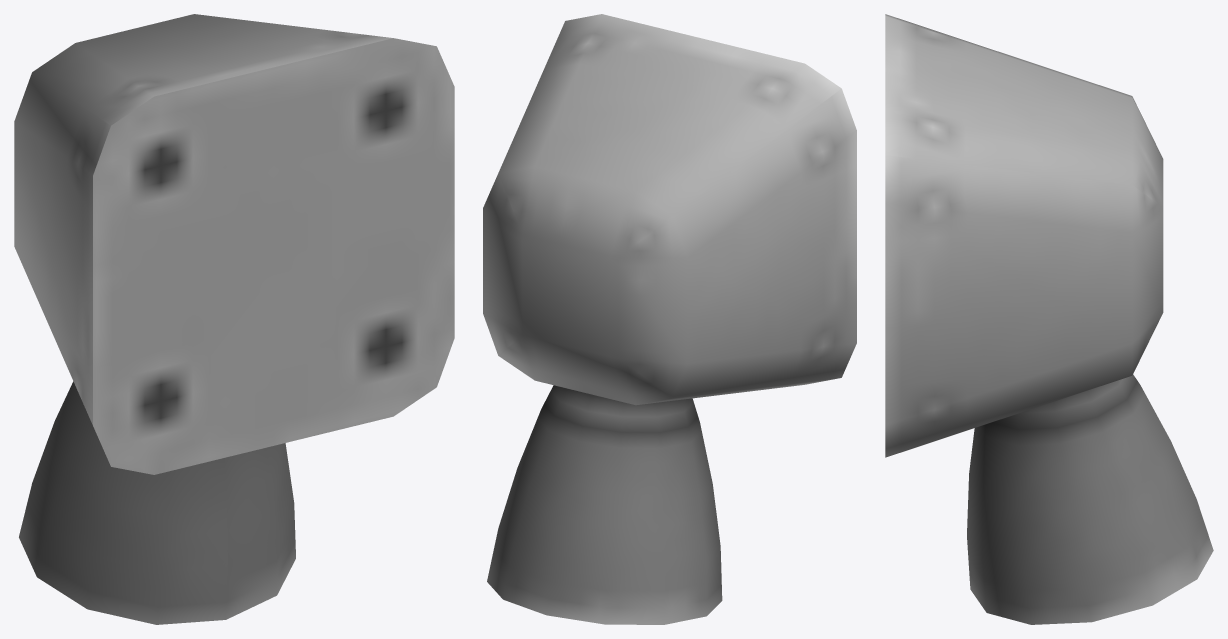
File: rcs1.fbx
3 views of the same model, side by side, from view 1: azimuth 30°, elevation 25°; view 2: azimuth 150°, elevation 25°; view 3: azimuth 270°, elevation 25° (orthographic). The views are drawn at different scales.
Parts seen in each view (by area): view 1: mesh; view 2: mesh; view 3: mesh.
Part boxes in pixels (x1,y1,x2,y2): mesh: [14, 14, 454, 624]; mesh: [483, 14, 856, 624]; mesh: [885, 14, 1213, 624].
Size of the model in its own units: 0.075 by 0.1165 by 0.0665.
1 material, 1 textured.
